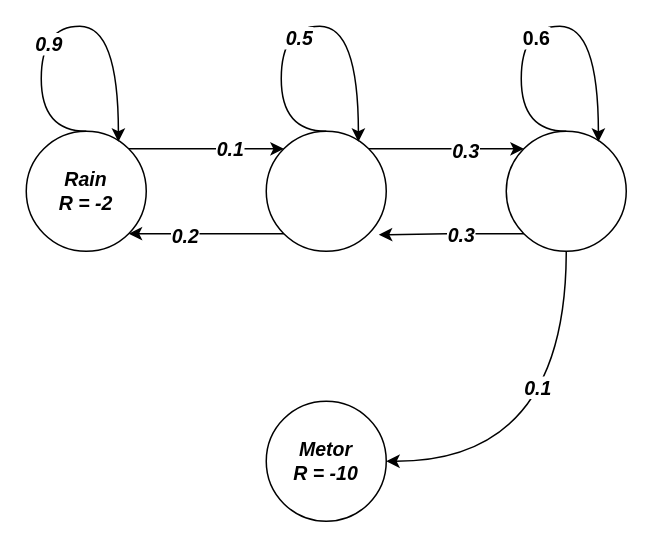
Image size: 653x548. Some labels were removed from this diagram. Each missing label, with the centre of its shape:
Cloud R = 0: the point at 325,190
Sunny R = 3: the point at 565,190
